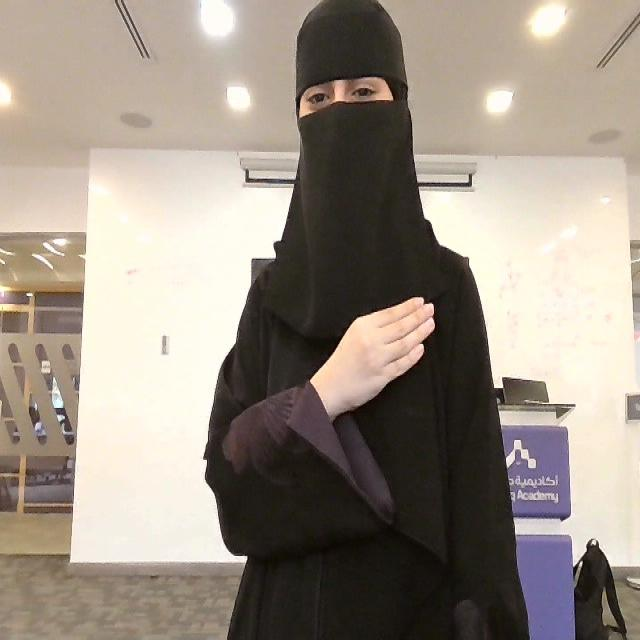result: (310, 295, 436, 420)
